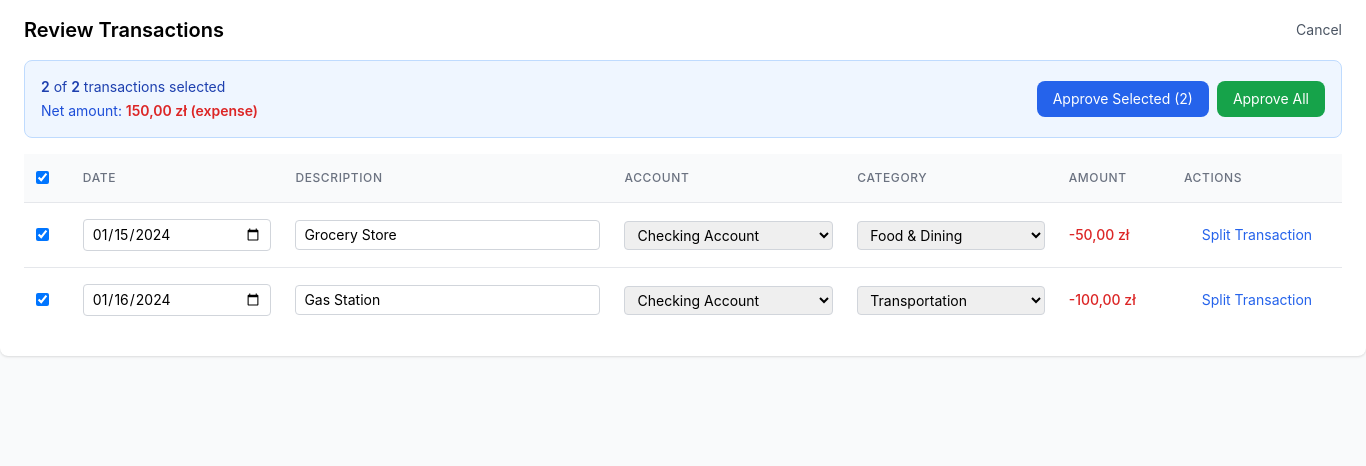
Scenario: ImportReview Component › allows converting transaction to split
Expected: the heading "Review Transactions" is shown, [24,16,224,44]
Click the 1st button "Split Transaction".
click(1257, 235)  # box [1184,225,1330,245]
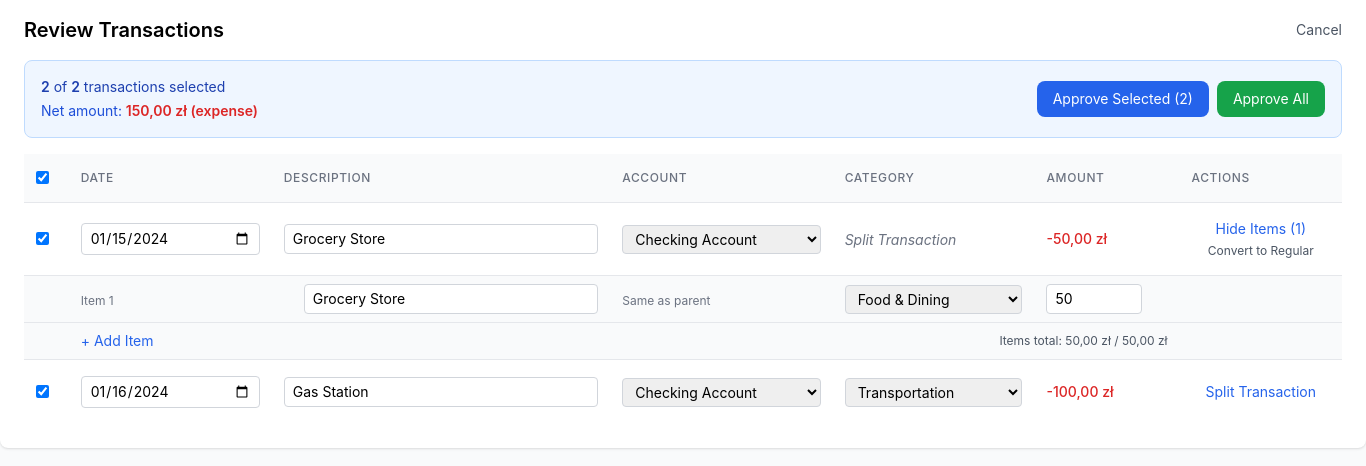
Result: the button "Convert to Regular" is shown at [1192,243,1330,259]
